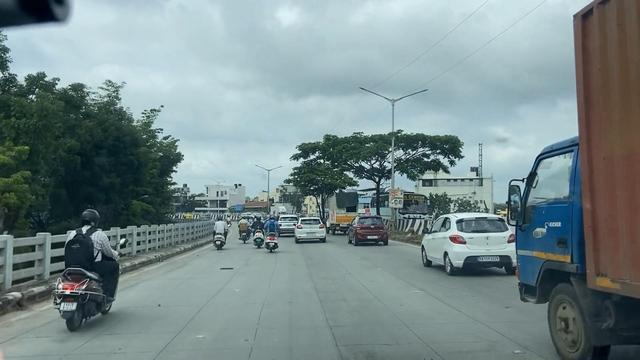LMV: (62, 208, 103, 325), (446, 207, 501, 271), (351, 214, 382, 247), (263, 211, 283, 251), (297, 215, 326, 242), (214, 212, 227, 251), (239, 217, 256, 245), (253, 213, 267, 247)
